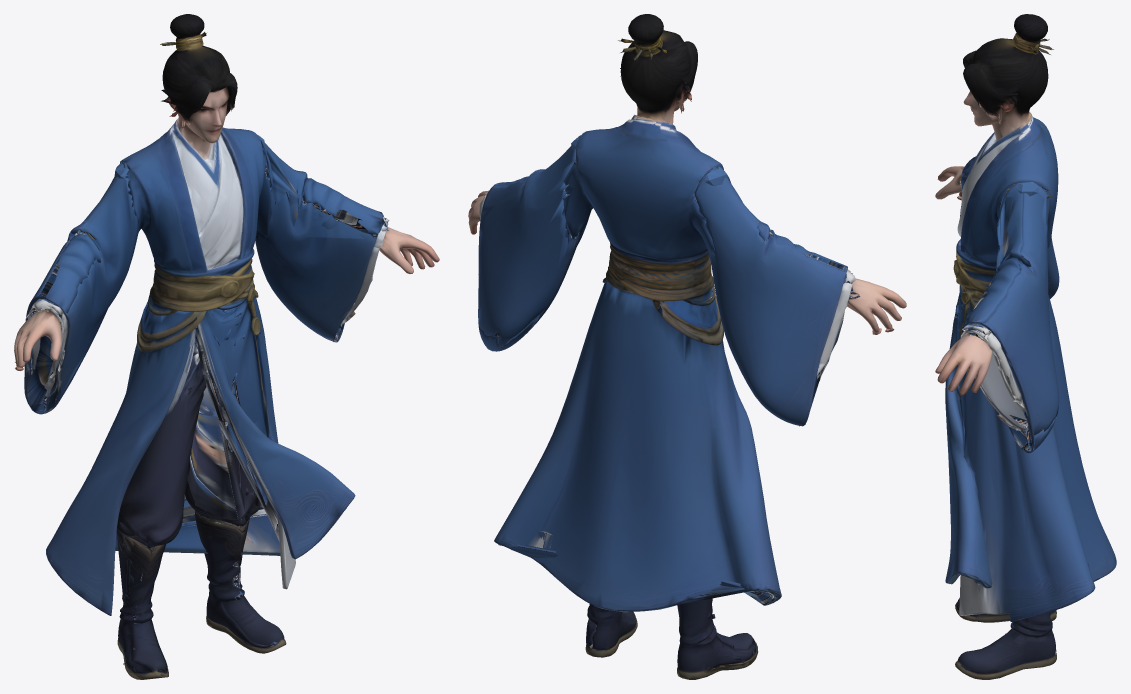
File: cultivator_jade_for_mixamo.fbx
3 views of the same model, side by side, from view 1: azimuth 30°, elevation 25°; view 2: azimuth 150°, elevation 25°; view 3: azimuth 270°, elevation 25° (orthographic). The views are drawn at different scales.
Parts seen in each view (by area): view 1: CultivatorJade; view 2: CultivatorJade; view 3: CultivatorJade.
Boxes of the visible parts, bbox=[...] form: CultivatorJade: bbox=[14, 14, 439, 679]; CultivatorJade: bbox=[468, 14, 906, 679]; CultivatorJade: bbox=[935, 14, 1116, 679].
Size of the model in its own units: 122 by 175 by 45.69.
3 materials, 1 textured.
